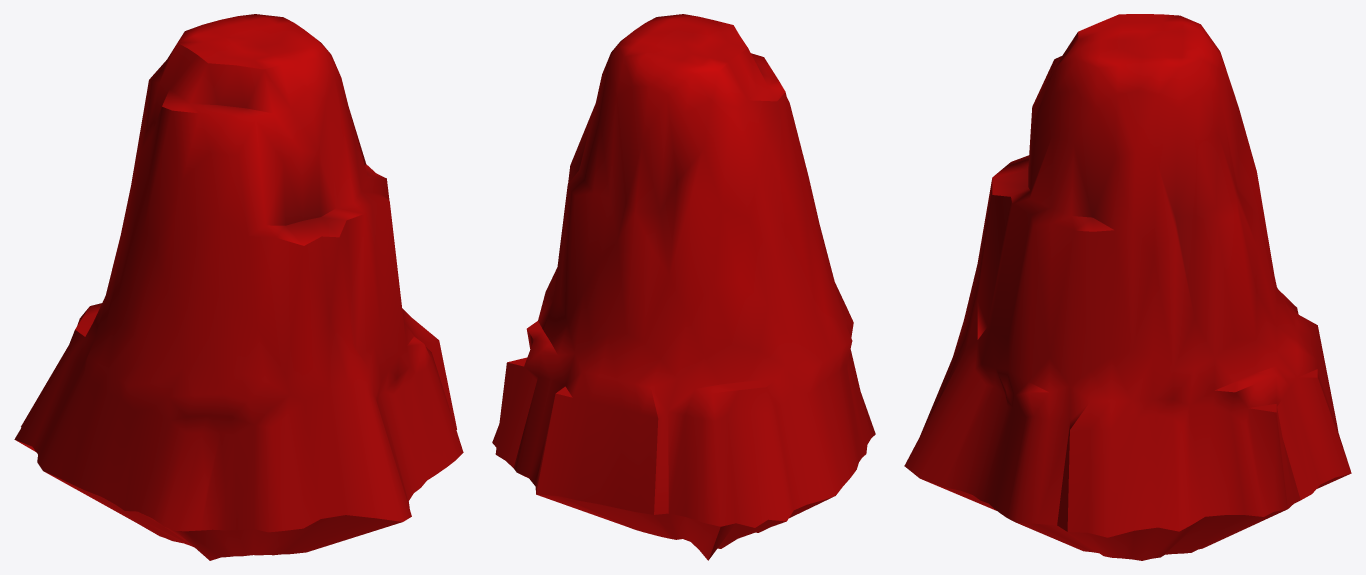
File: geology-landforms-redstonemountain_v2.fbx
3 renders of one model, left to right at view 1: azimuth 30°, elevation 25°; view 2: azimuth 150°, elevation 25°; view 3: azimuth 270°, elevation 25°, orthographic. The views are drawn at different scales.
Parts seen in each view (by area): view 1: RedStoneMountain_v2; view 2: RedStoneMountain_v2; view 3: RedStoneMountain_v2.
Part boxes in pixels (x1,y1,x2,y2): RedStoneMountain_v2: [14, 14, 463, 560]; RedStoneMountain_v2: [492, 14, 875, 560]; RedStoneMountain_v2: [904, 14, 1351, 560].
Bounding box in the file's own units: 22.69 × 29.48 × 23.96.
